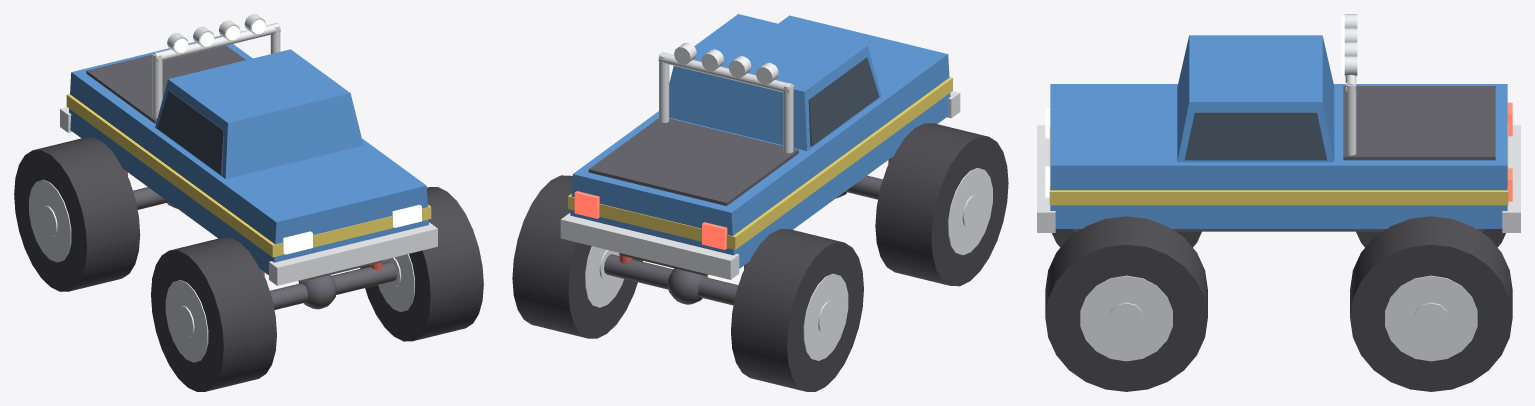
The model's file is vehicle_monster_truck.glb.
3 renders of one model, left to right at view 1: azimuth 30°, elevation 25°; view 2: azimuth 150°, elevation 25°; view 3: azimuth 270°, elevation 25°, orthographic. The views are drawn at different scales.
Visible parts, largest first — view 1: MonsterRoot; view 2: MonsterRoot; view 3: MonsterRoot.
Part boxes in pixels (x1=…): MonsterRoot: x1=14, y1=14, x2=483, y2=391; MonsterRoot: x1=512, y1=14, x2=1008, y2=391; MonsterRoot: x1=1037, y1=14, x2=1520, y2=391.
Size of the model in its own units: 3.68 by 3.41 by 5.24.
